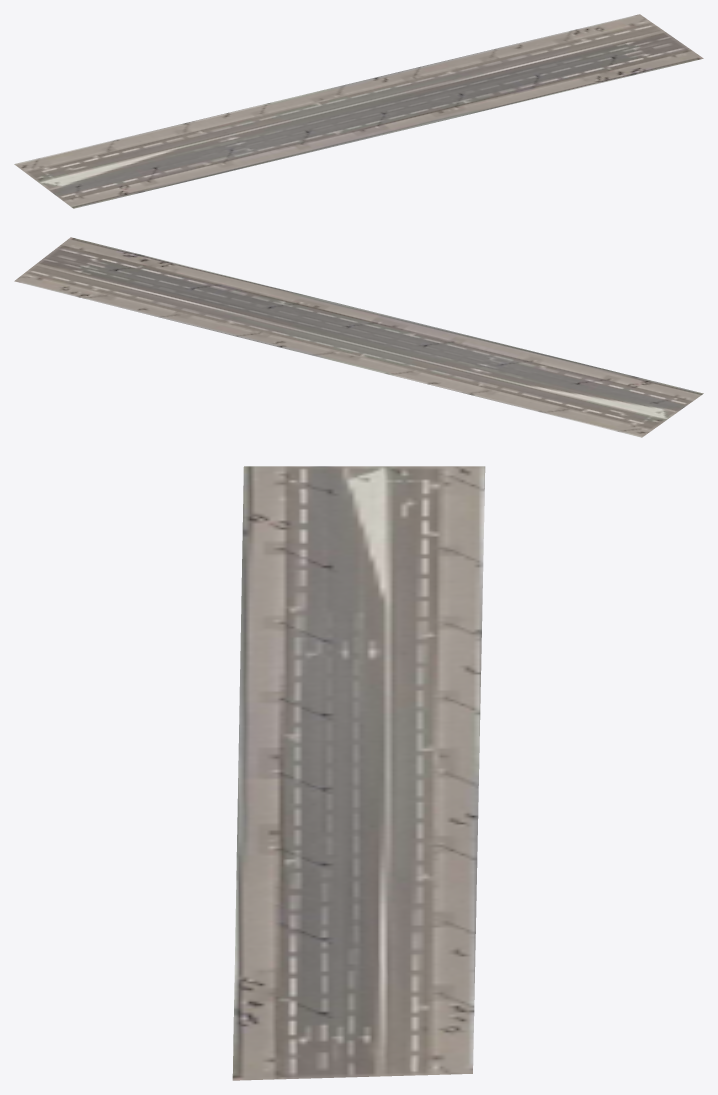
3 views of the same model, one above another, from view 1: azimuth 30°, elevation 25°; view 2: azimuth 150°, elevation 25°; view 3: azimuth 270°, elevation 25° (orthographic). The views are drawn at different scales.
Visible parts, largest first — view 1: Z_UP; view 2: Z_UP; view 3: Z_UP.
Boxes of the visible parts, bbox=[...] form: Z_UP: bbox=[14, 14, 703, 208]; Z_UP: bbox=[14, 237, 703, 437]; Z_UP: bbox=[232, 466, 485, 1080].
Size of the model in its own units: 133 by 0.3015 by 23.26.
Materials: 1 (1 with a texture image).
